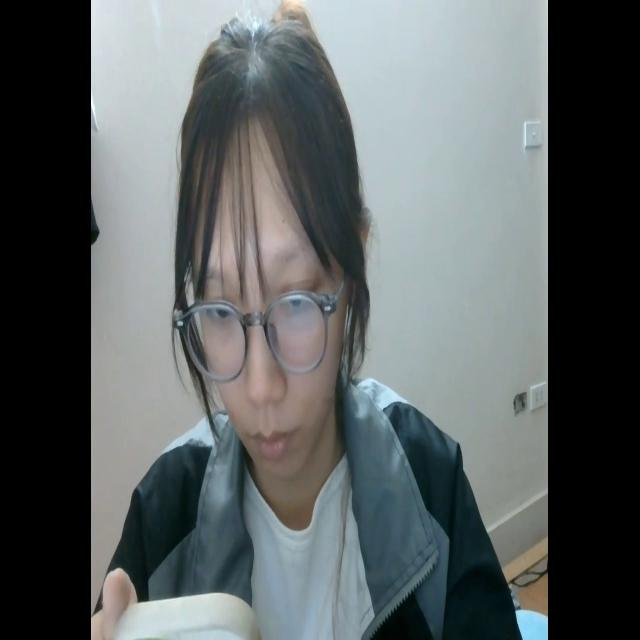student: (94, 3, 526, 640)
